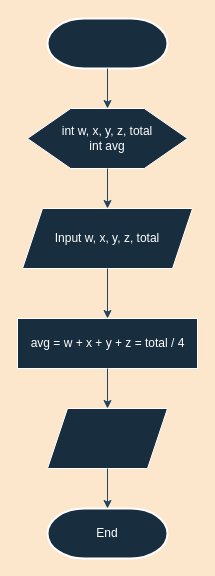
Image size: 215x576. Some labels were removed from this diagram. Here are the shapes that lost their labels. From the top down, the centre of each, then its label:
point 107,43: Start
point 107,438: output avg
